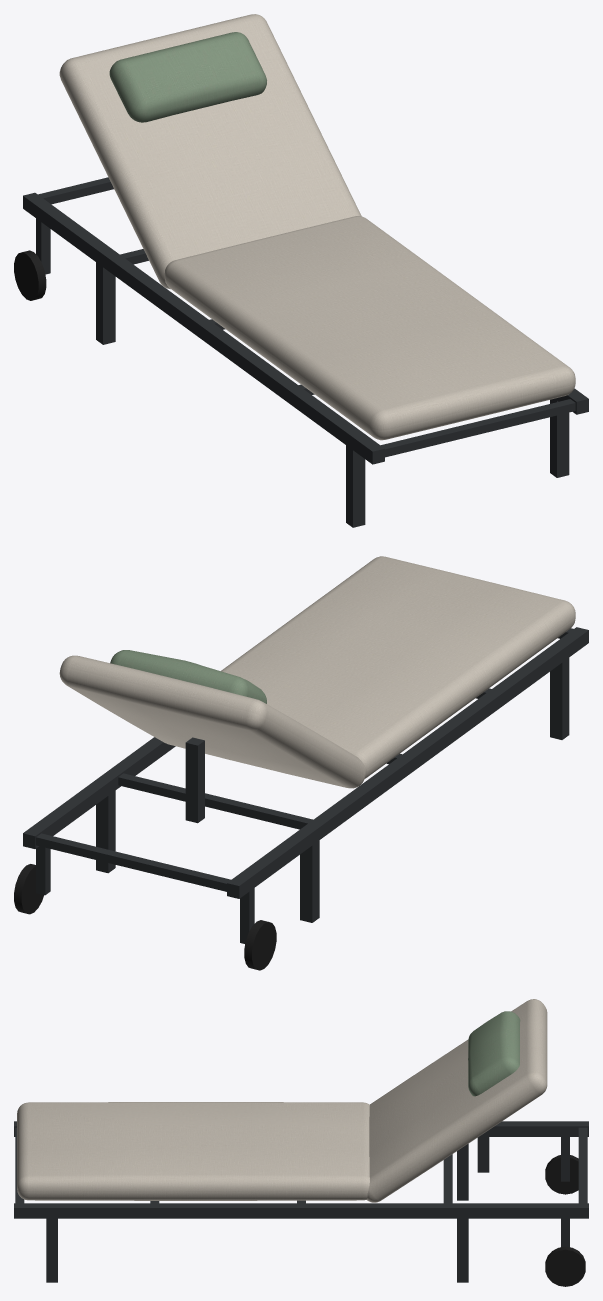
File: sunbed.glb
The picture shows the model from 3 angles, top to bottom: view 1: azimuth 30°, elevation 25°; view 2: azimuth 150°, elevation 25°; view 3: azimuth 270°, elevation 25°; orthographic projection. The views are drawn at different scales.
Parts seen in each view (by area): view 1: fabric.003, frame.009, accent.002, dark; view 2: fabric.003, frame.009, accent.002, dark; view 3: fabric.003, frame.009, accent.002, dark.
Boxes of the visible parts, x1=… form: fabric.003: x1=59, y1=14, x2=575, y2=440; frame.009: x1=23, y1=177, x2=588, y2=527; accent.002: x1=109, y1=32, x2=266, y2=122; dark: x1=14, y1=250, x2=46, y2=300; fabric.003: x1=59, y1=556, x2=575, y2=788; frame.009: x1=23, y1=627, x2=588, y2=943; accent.002: x1=110, y1=650, x2=266, y2=703; dark: x1=14, y1=864, x2=276, y2=970; fabric.003: x1=17, y1=999, x2=547, y2=1202; frame.009: x1=14, y1=1121, x2=588, y2=1282; accent.002: x1=468, y1=1011, x2=520, y2=1096; dark: x1=545, y1=1155, x2=585, y2=1286.
Bounding box in the file's own units: 0.77 × 0.7749 × 1.96.
4 materials, 2 textured.
